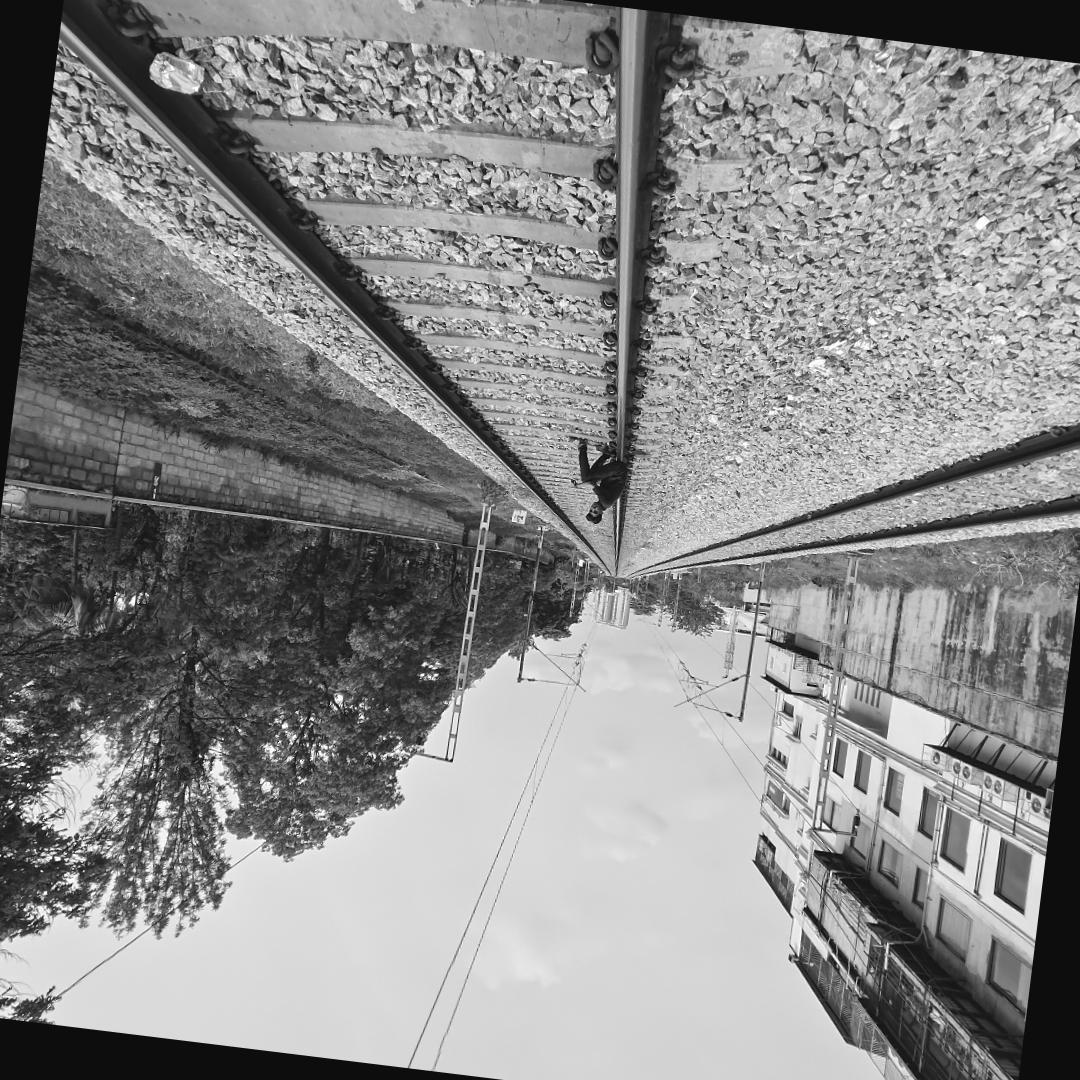sitting: (561, 428, 633, 526)
track: (55, 0, 705, 579)
